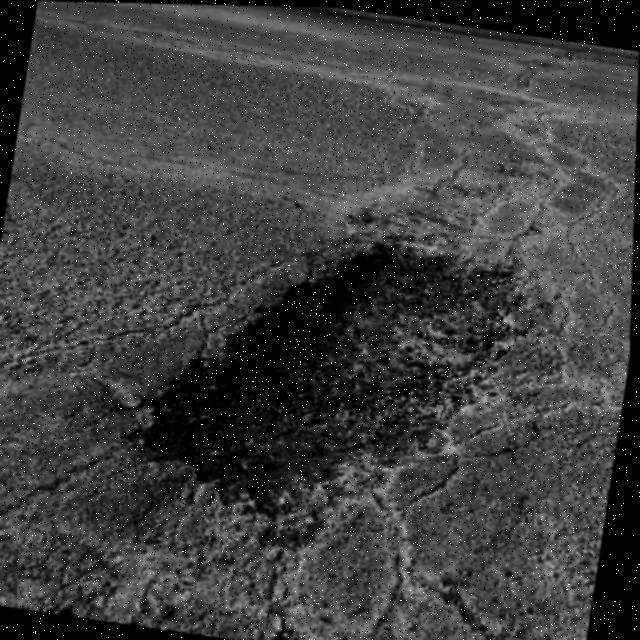pothole: (106, 200, 544, 578)
